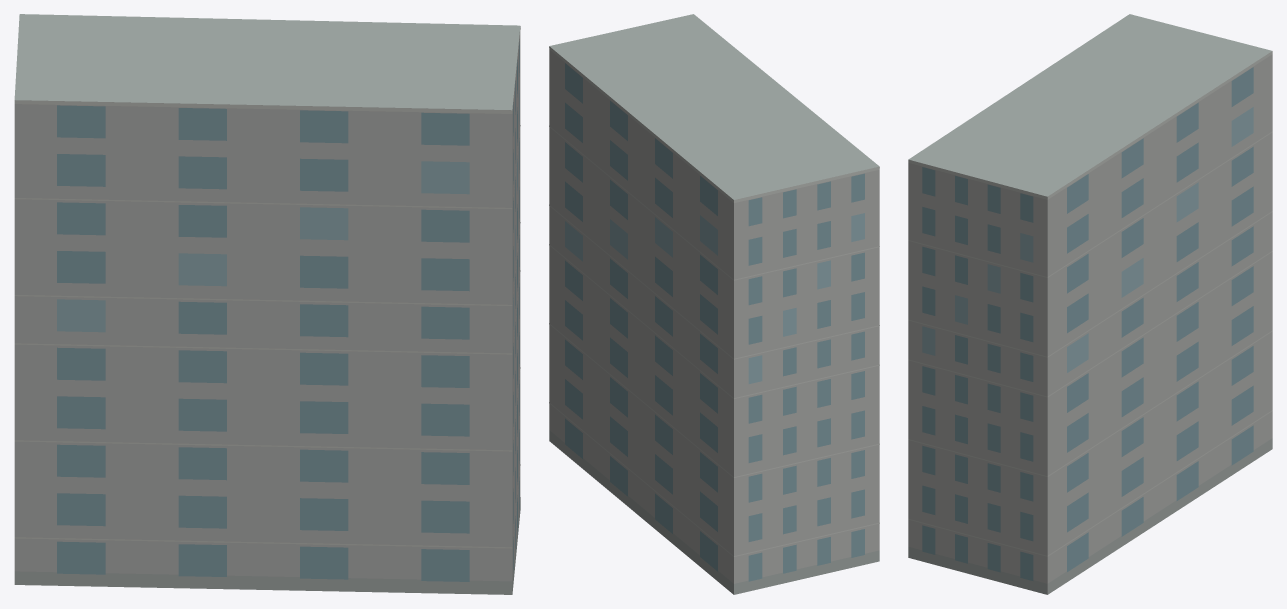
Rendered from survey-upis-32747166.glb.
3 renders of one model, left to right at view 1: azimuth 30°, elevation 25°; view 2: azimuth 150°, elevation 25°; view 3: azimuth 270°, elevation 25°, orthographic. The views are drawn at different scales.
Visible parts, largest first — view 1: survey-upis-32747166.tmp; view 2: survey-upis-32747166.tmp; view 3: survey-upis-32747166.tmp.
Boxes of the visible parts, bbox=[...] form: survey-upis-32747166.tmp: bbox=[14, 14, 520, 594]; survey-upis-32747166.tmp: bbox=[549, 14, 879, 594]; survey-upis-32747166.tmp: bbox=[908, 14, 1272, 594].
Size of the model in its own units: 30.04 by 30.5 by 25.31.
